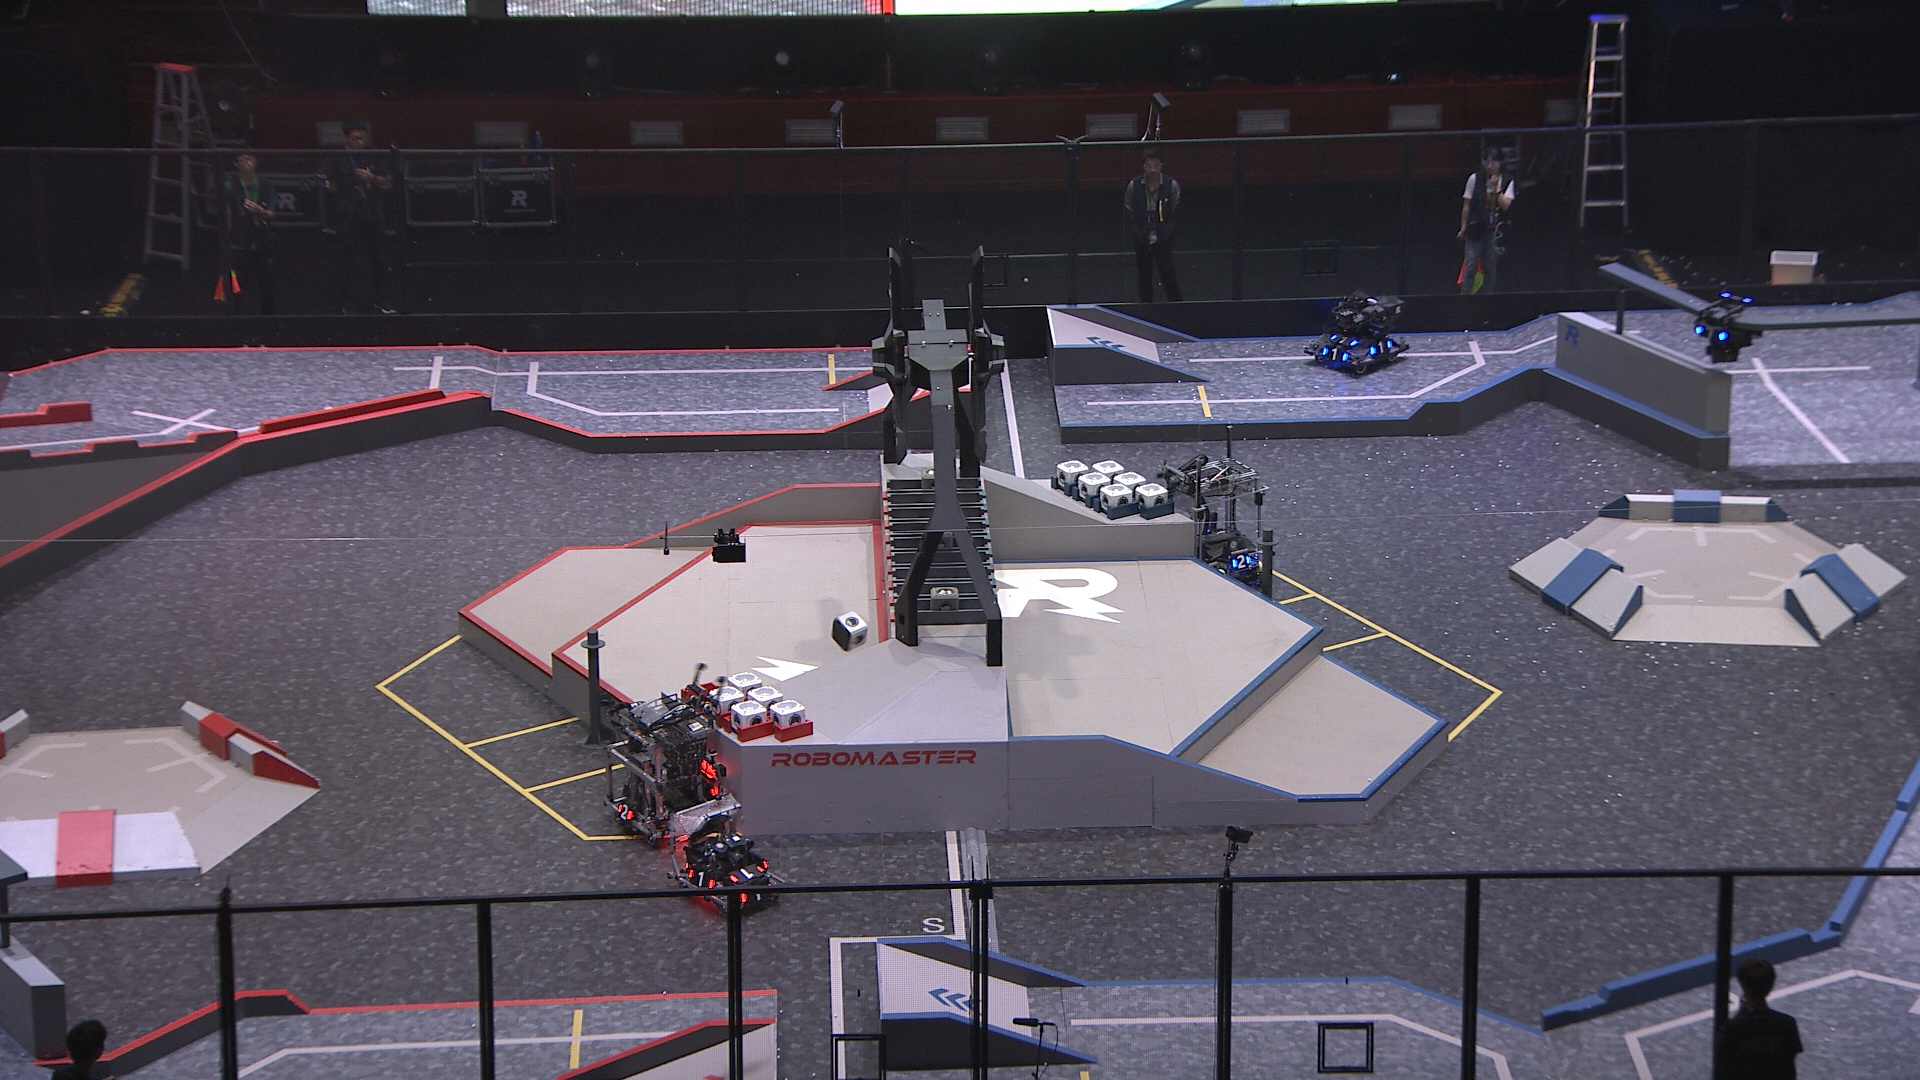armor: (684, 865, 717, 893), (1692, 322, 1730, 345), (735, 882, 770, 907), (728, 862, 765, 885), (1320, 345, 1352, 367), (611, 799, 637, 822), (1226, 550, 1253, 572), (1329, 328, 1358, 348), (1366, 338, 1396, 356)
car: (603, 690, 728, 847), (1153, 454, 1266, 591), (666, 793, 783, 916), (1304, 285, 1414, 381)
watcher: (1691, 276, 1760, 367)
